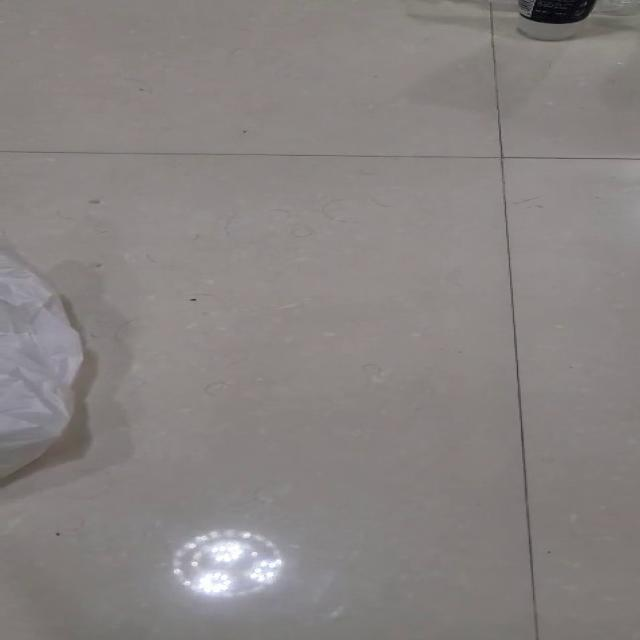plastic: (0, 241, 84, 478)
